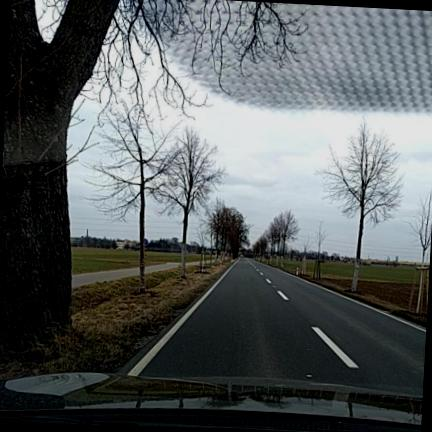Road: (129, 259, 425, 395), (71, 268, 138, 288)
